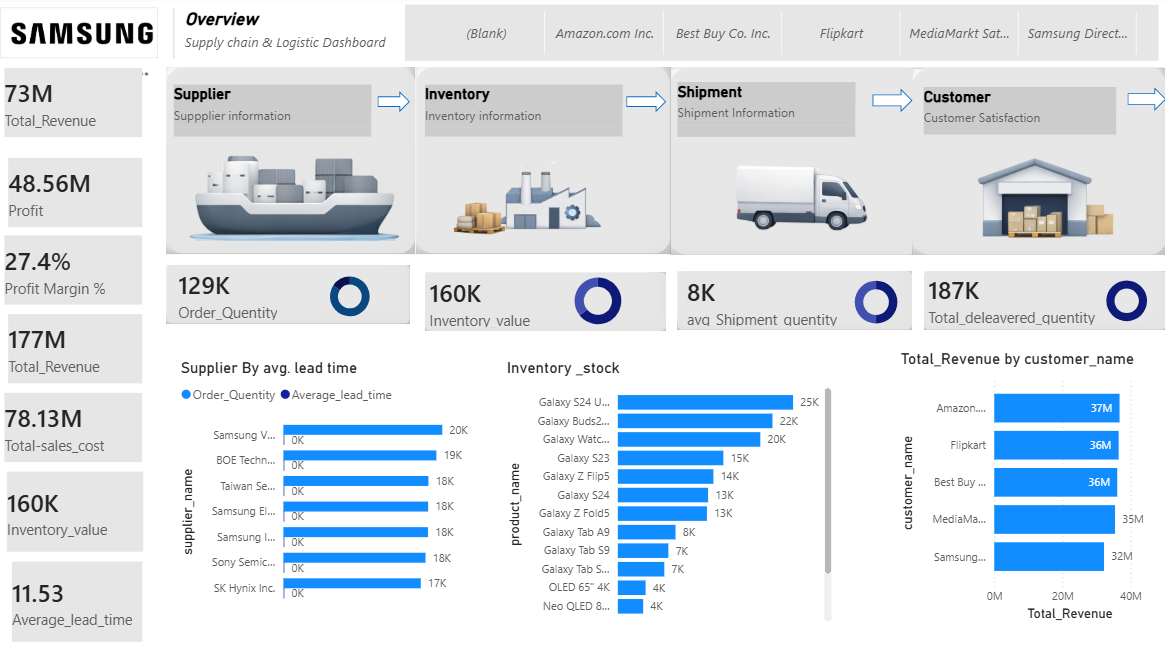

Layout of this report page (visuals, bound fields, positions):
{"tool":"powerbi","page":{"name":"Page 1","canvas":[1280,720],"ordinal":0},"visuals":[{"type":"shape","title":"Overview","box":[203.1,13.7,222.3,54.9],"z":0},{"type":"shape","box":[182.7,78.2,273.5,204.5],"z":0,"group":"g1"},{"type":"shape","title":"Supplier ","box":[190.7,98,217.2,57.1],"z":0,"group":"g2"},{"type":"shape","box":[735.3,79.6,279,204.5],"z":1000,"group":"g1"},{"type":"shape","title":"Customer ","box":[1014.2,100.1,211.2,51.6],"z":1000,"group":"g2"},{"type":"shape","box":[182.5,295,267.6,64.5],"z":1000},{"type":"group","id":"g1","title":"Group 1","box":[182.5,78.2,1097.8,205.8],"z":2000},{"type":"shape","box":[1001.5,79.6,279,204.5],"z":2000,"group":"g1"},{"type":"shape","title":" Shipment ","box":[743,94.7,195.1,59.8],"z":2000,"group":"g2"},{"type":"shape","box":[456.3,78.2,279,204.5],"z":3000,"group":"g1"},{"type":"shape","title":"Inventory","box":[466.8,98,217.2,57.1],"z":3000,"group":"g2"},{"type":"shape","box":[414.4,104.3,35.7,23.3],"z":3000},{"type":"shape","box":[687.5,104.3,43.9,23.3],"z":4000},{"type":"shape","box":[957.8,101.5,43.9,26.1],"z":5000},{"type":"shape","box":[1237.7,100.2,42.5,26.1],"z":6000},{"type":"image","box":[182.5,165.1,269.9,104.3],"z":6500,"group":"g1"},{"type":"group","id":"g2","title":"Group 2","box":[190.7,94.7,1034.7,60.4],"z":7000},{"type":"image","box":[414,159.6,317.3,116.6],"z":7000,"group":"g1"},{"type":"image","box":[731.3,163.7,291.8,104.3],"z":7500,"group":"g1"},{"type":"shape","box":[152.3,13.7,76.8,54.9],"z":8000},{"type":"image","box":[1028.6,147.2,246.2,137.2],"z":8000,"group":"g1"},{"type":"image","box":[0,12.3,172.9,56.3],"z":9000},{"type":"cardVisual","fields":{"Data":["Measuers.Total_Revenue"]},"box":[0,74.1,161.9,86.4],"z":10000},{"type":"cardVisual","fields":{"Data":["Measuers.Profit"]},"box":[4.1,172.9,157.8,86.4],"z":11000},{"type":"cardVisual","fields":{"Data":["Measuers.Profit Margin %"]},"box":[0,258,161.9,86.4],"z":12000},{"type":"cardVisual","fields":{"Data":["Measuers.Total_Revenue"]},"box":[4.1,344.4,157.8,86.4],"z":13000},{"type":"cardVisual","fields":{"Data":["Measuers.Total-sales_cost"]},"box":[0,430.9,161.9,86.4],"z":14000},{"type":"cardVisual","fields":{"Data":["Measuers.Inventory_value"]},"box":[2.7,517.3,159.2,98.8],"z":15000},{"type":"cardVisual","fields":{"Data":["Measuers.Average_lead_time"]},"box":[8.2,616.1,153.7,98.8],"z":16000},{"type":"shape","box":[466.6,303.3,264.8,64.5],"z":17000},{"type":"shape","box":[743.7,301.9,258,64.5],"z":18000},{"type":"shape","box":[1014.1,301.9,266.2,64.5],"z":19000},{"type":"cardVisual","fields":{"Data":["Measuers.Order_qyt"]},"box":[190.7,296.4,168.8,64.5],"z":20000},{"type":"cardVisual","fields":{"Data":["Measuers.Inventory_value"]},"box":[466.6,304.6,129,64.5],"z":21000},{"type":"cardVisual","fields":{"Data":["Measuers.Total_Shipment_quentity"]},"box":[749.2,303.3,219.6,64.5],"z":22000},{"type":"cardVisual","fields":{"Data":["Measuers.Total_deleavered_quentity"]},"box":[1014.1,301.9,211.3,64.5],"z":23000},{"type":"clusteredBarChart","title":"Supplier By avg. lead time","fields":{"Y":["Measuers.Order_Quentity","Measuers.Average_lead_time"],"Category":["Supplier.supplier_name"]},"box":[193.5,397.9,332.1,279.9],"z":24000},{"type":"clusteredBarChart","title":"Inventory _stock","fields":{"Y":["Measuers.Inventory_value"],"Category":["Product.product_name"]},"box":[551.6,397.9,366.4,293.7],"z":25000},{"type":"clusteredBarChart","fields":{"Y":["Measuers.Total_Revenue"],"Category":["Customer.customer_name"]},"box":[983.9,388.3,290.9,303.3],"z":26000},{"type":"donutChart","fields":{"Y":["Measuers.Inventory_value","Sum(Inventory.safety_stock_level)"]},"box":[599.7,297.8,113.9,74.1],"z":27000},{"type":"donutChart","fields":{"Y":["Measuers.Total_Shipment_quentity","CountNonNull(shipment.status)"]},"box":[918,301.9,87.8,68.6],"z":28000},{"type":"donutChart","fields":{"Y":["Measuers.Total_deleavered_quentity"]},"box":[1197.9,301.9,78.2,65.9],"z":29000},{"type":"donutChart","fields":{"Y":["Measuers.Order_Quentity","Measuers.Defected measure"]},"box":[336.2,297.8,96.1,64.5],"z":30000},{"type":"slicer","fields":{"Values":["Customer.customer_name"]},"box":[444.6,9.6,827.4,61.7],"z":30001}]}

Visuals, with their boxes in screenshot pixels (x1, y1, x2, y2), scaled from the page's 1280x720 canvas onto the 1165x648 screenshot:
"Overview" shape: [185,12,387,62]
shape: [166,70,415,254]
"Supplier " shape: [174,88,371,140]
shape: [669,72,923,256]
"Customer " shape: [923,90,1115,137]
shape: [166,266,410,324]
"Group 1" group: [166,70,1164,256]
shape: [912,72,1164,256]
" Shipment " shape: [676,85,854,139]
shape: [415,70,669,254]
"Inventory" shape: [425,88,623,140]
shape: [377,94,410,115]
shape: [626,94,666,115]
shape: [872,91,912,115]
shape: [1127,90,1164,114]
image: [166,149,412,242]
"Group 2" group: [174,85,1115,140]
image: [377,144,666,249]
image: [666,147,931,241]
shape: [139,12,209,62]
image: [936,132,1160,256]
image: [0,11,157,62]
cardVisual - Measuers.Total_Revenue: [0,67,147,144]
cardVisual - Measuers.Profit: [4,156,147,233]
cardVisual - Measuers.Profit Margin %: [0,232,147,310]
cardVisual - Measuers.Total_Revenue: [4,310,147,388]
cardVisual - Measuers.Total-sales_cost: [0,388,147,466]
cardVisual - Measuers.Inventory_value: [2,466,147,554]
cardVisual - Measuers.Average_lead_time: [7,554,147,643]
shape: [425,273,666,331]
shape: [677,272,912,330]
shape: [923,272,1164,330]
cardVisual - Measuers.Order_qyt: [174,267,327,325]
cardVisual - Measuers.Inventory_value: [425,274,542,332]
cardVisual - Measuers.Total_Shipment_quentity: [682,273,882,331]
cardVisual - Measuers.Total_deleavered_quentity: [923,272,1115,330]
"Supplier By avg. lead time" clusteredBarChart: [176,358,478,610]
"Inventory _stock" clusteredBarChart: [502,358,836,622]
clusteredBarChart - Measuers.Total_Revenue x Customer.customer_name: [896,349,1160,622]
donutChart - Measuers.Inventory_value x Sum(Inventory.safety_stock_level): [546,268,649,335]
donutChart - Measuers.Total_Shipment_quentity x CountNonNull(shipment.status): [836,272,915,333]
donutChart - Measuers.Total_deleavered_quentity: [1090,272,1161,331]
donutChart - Measuers.Order_Quentity x Measuers.Defected measure: [306,268,393,326]
slicer - Customer.customer_name: [405,9,1158,64]
